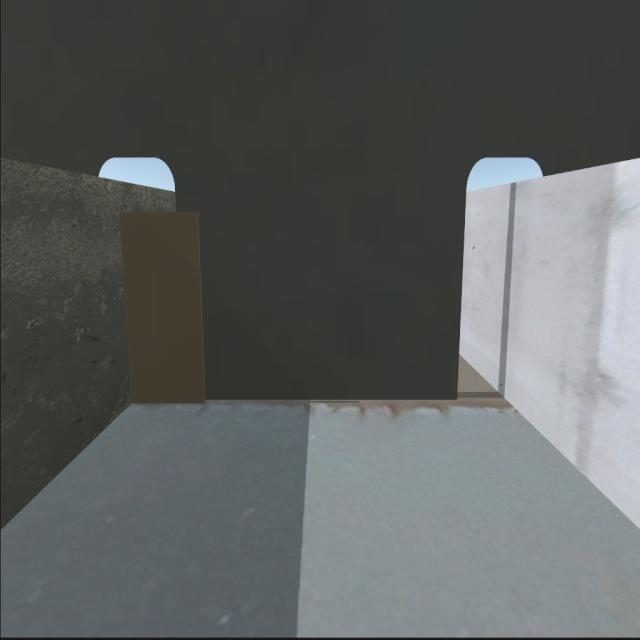fillet_yong_jeop_jang: (128, 398, 456, 412)
longi_yong_jeop_jang: (116, 220, 135, 401)
plate_CP01: (123, 220, 210, 395)
